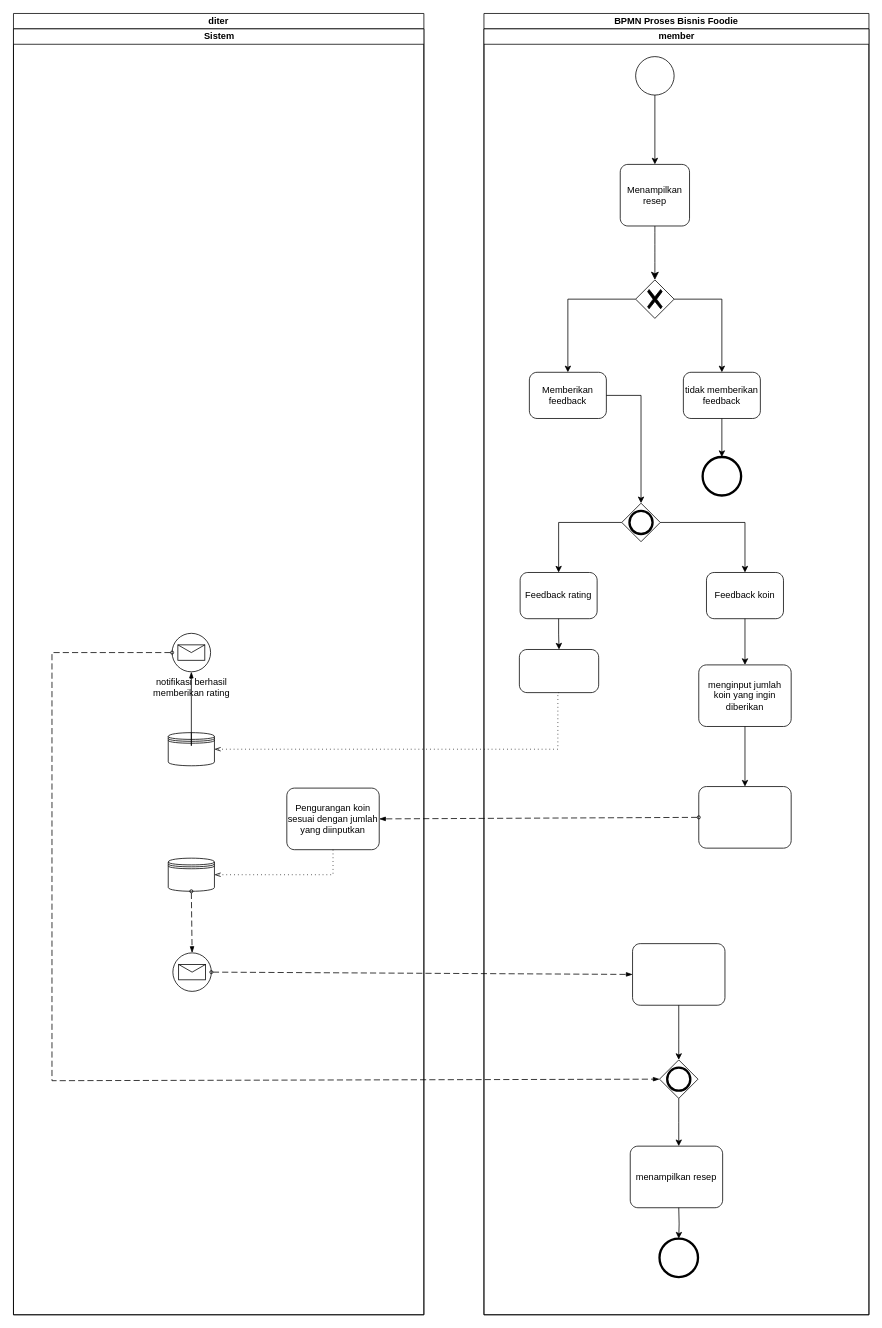
This 882x1328 diagram has some shape labels left out. The centre of each missing label's shape, as x and y in pixels:
"koin" belongs at pixel 190 874.
"koin berkurang" belongs at pixel 678 974.
"menginput rating" belongs at pixel 559 671.
"mengonfirmasi feedback yang ingin diberikan" belongs at pixel 744 817.
"nofikasi berhasil memberikan koin" belongs at pixel 191 971.
"rating" belongs at pixel 190 749.
